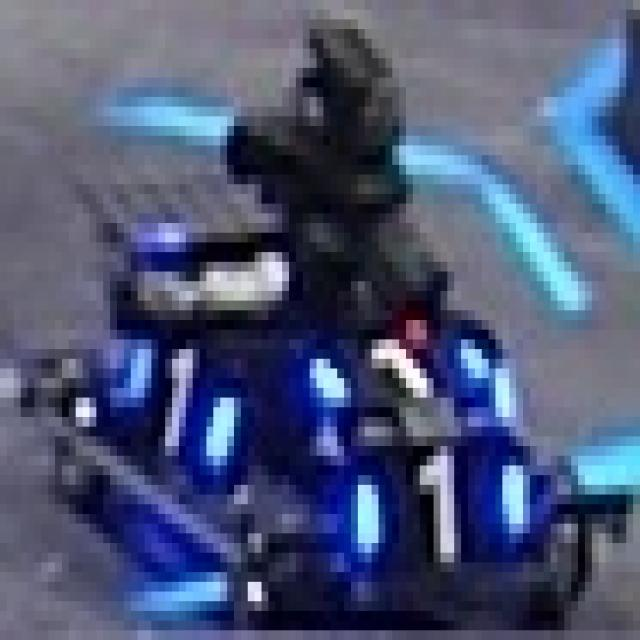B1: (351, 437, 530, 562), (303, 320, 495, 407), (124, 330, 241, 466)
